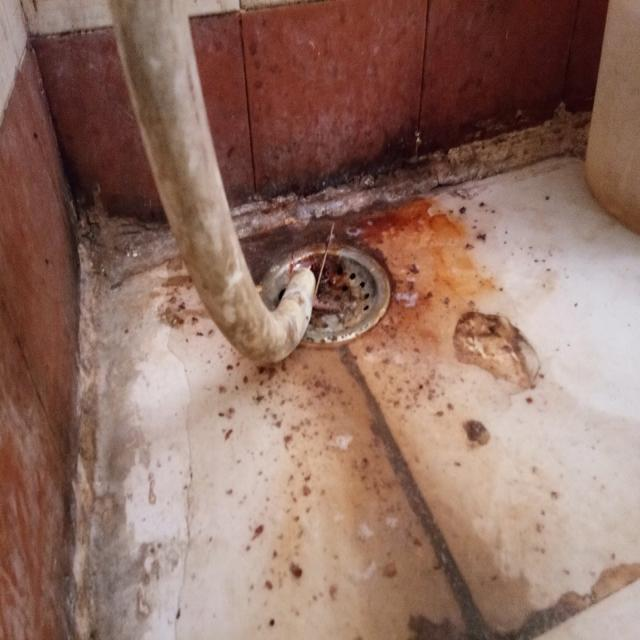damage: (106, 0, 318, 366)
dirty_floor: (69, 130, 637, 638), (25, 0, 610, 222), (259, 238, 393, 347)
